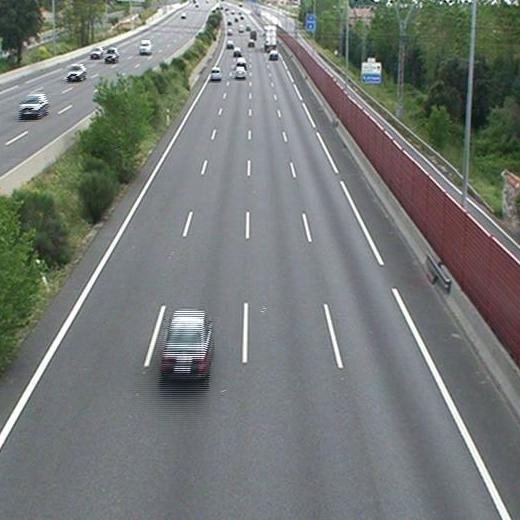car: (162, 310, 211, 374), (234, 66, 247, 78), (210, 67, 222, 79), (236, 57, 246, 66), (269, 50, 279, 59), (232, 48, 241, 56)
truck: (264, 24, 276, 45)
